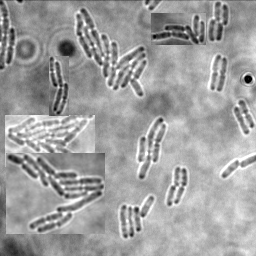Dividing: (175, 167, 189, 204), (238, 99, 255, 128), (209, 54, 222, 90), (217, 56, 228, 92), (7, 27, 17, 64)
Microcolony: (6, 153, 105, 234), (76, 7, 147, 98), (5, 115, 95, 167), (137, 117, 168, 180), (151, 13, 206, 45), (120, 195, 155, 238), (49, 56, 69, 116), (208, 1, 229, 42)
Rod: (233, 106, 251, 135), (222, 157, 240, 178), (167, 184, 177, 206), (174, 166, 183, 187)
